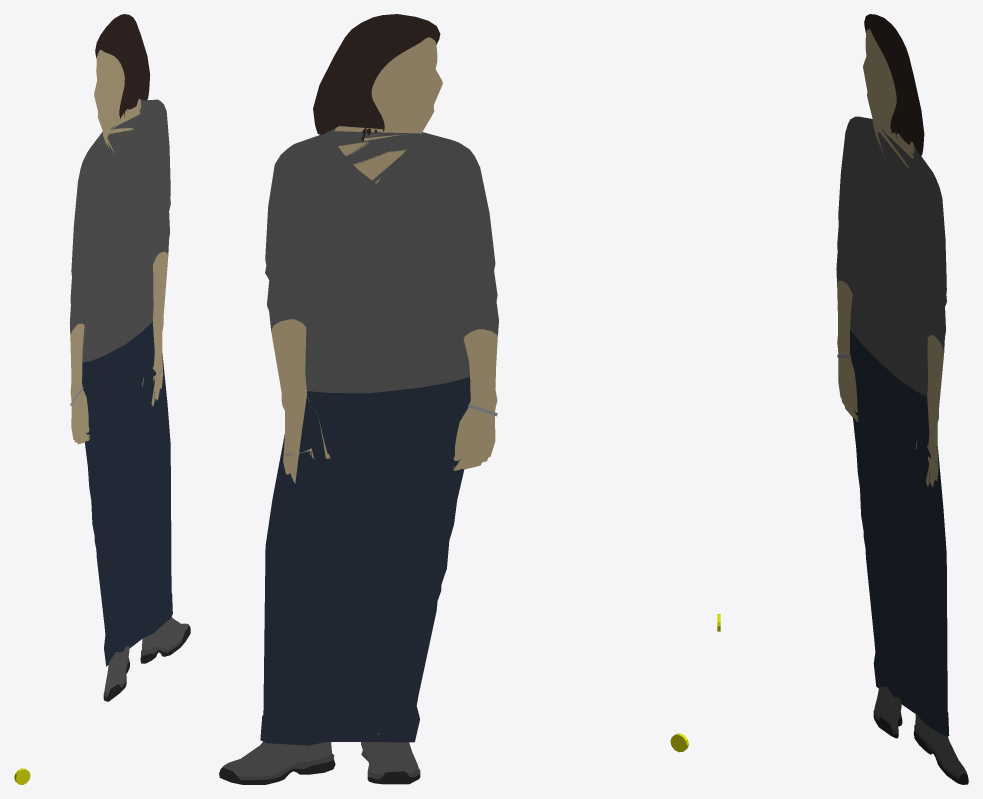
File: Coin.obj
3 renders of one model, left to right at view 1: azimuth 30°, elevation 25°; view 2: azimuth 150°, elevation 25°; view 3: azimuth 270°, elevation 25°, orthographic. The views are drawn at different scales.
Visible parts, largest first — view 1: Mesh1 Susan1 Model; view 2: Mesh1 Susan1 Model; view 3: Mesh1 Susan1 Model.
Boxes of the visible parts, box(x1,y1,x2,y2) form: Mesh1 Susan1 Model: box(69, 14, 190, 701); Mesh1 Susan1 Model: box(219, 14, 498, 784); Mesh1 Susan1 Model: box(836, 14, 968, 784).
Size of the model in its own units: 30.23 by 66.6 by 21.28.
